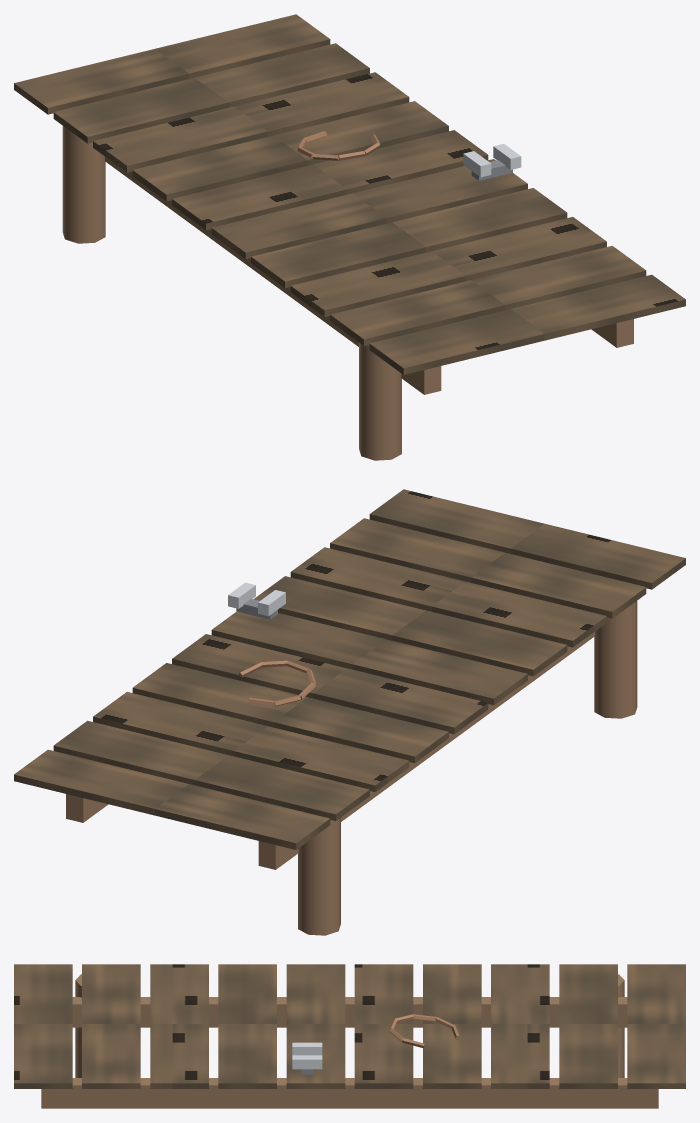
Rendered from Mooring.fbx.
3 renders of one model, top to bottom at view 1: azimuth 30°, elevation 25°; view 2: azimuth 150°, elevation 25°; view 3: azimuth 270°, elevation 25°, orthographic. The views are drawn at different scales.
Parts seen in each view (by area): view 1: LOD0; view 2: LOD0; view 3: LOD0.
Boxes of the visible parts, left/top/right/bottom form: LOD0: left=14, top=14, right=685, bottom=460; LOD0: left=14, top=489, right=685, bottom=935; LOD0: left=14, top=964, right=685, bottom=1108.
Size of what is drawn, in the model's own units: 132 by 66.5 by 316.
